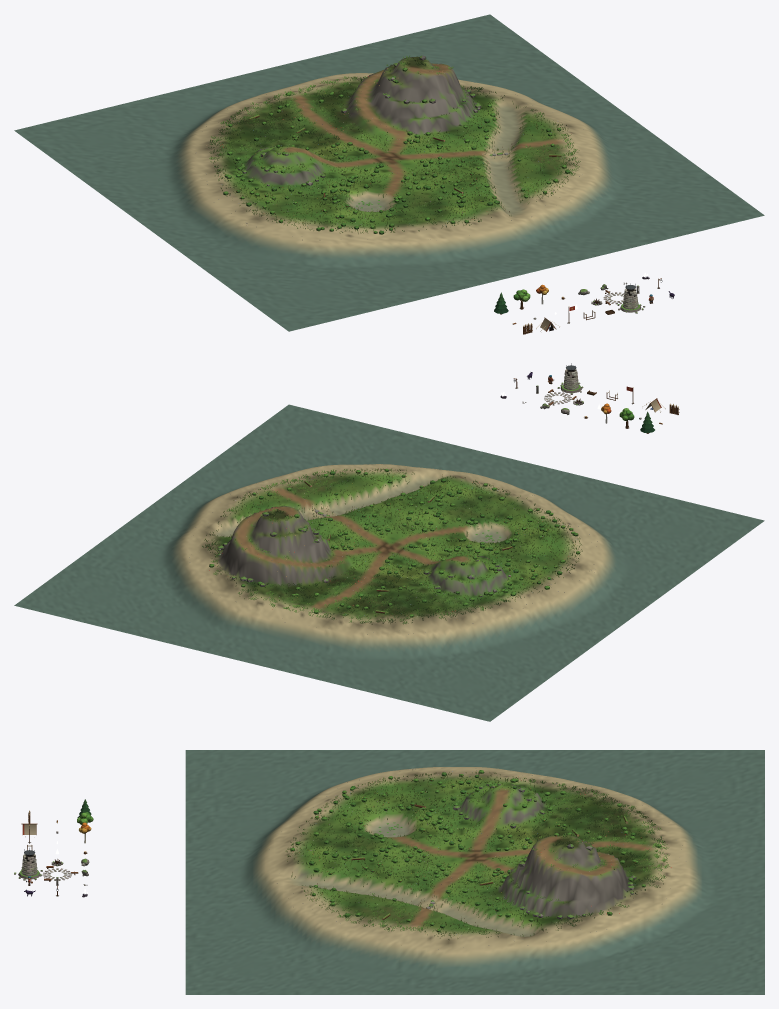
Rendered from heft.glb.
3 views of the same model, one above another, from view 1: azimuth 30°, elevation 25°; view 2: azimuth 150°, elevation 25°; view 3: azimuth 270°, elevation 25° (orthographic). The views are drawn at different scales.
Visible parts, largest first — view 1: terrain, decor; view 2: terrain, decor; view 3: terrain, decor, beacon.
Part boxes in pixels (box(x1,y1,x2,y2)): terrain: box(14, 14, 764, 331); decor: box(196, 55, 583, 240); terrain: box(14, 404, 764, 721); decor: box(189, 467, 597, 634); terrain: box(185, 750, 764, 994); decor: box(269, 768, 686, 949); beacon: box(14, 848, 42, 880).
Size of the model in its own units: 104 by 13.63 by 135.
